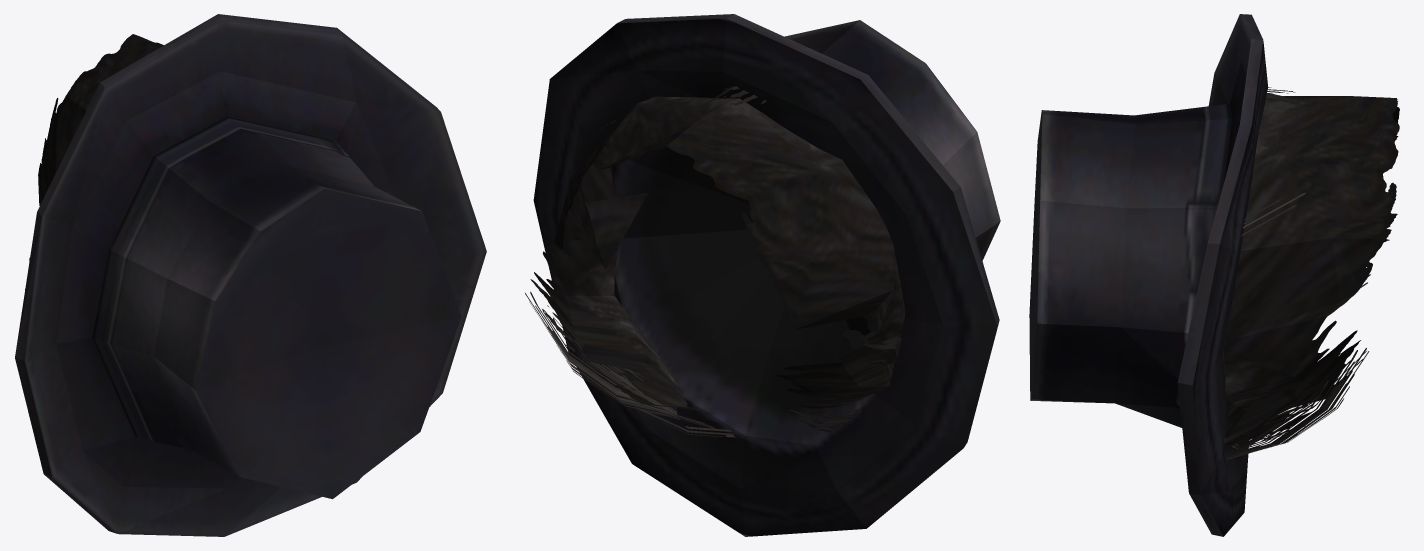
File: common_hair_male_3019.obj
3 renders of one model, left to right at view 1: azimuth 30°, elevation 25°; view 2: azimuth 150°, elevation 25°; view 3: azimuth 270°, elevation 25°, orthographic. The views are drawn at different scales.
Visible parts, largest first — view 1: common_hair_male_3019; view 2: common_hair_male_3019; view 3: common_hair_male_3019.
Boxes of the visible parts, x1,y1,x2,y2 form: common_hair_male_3019: [15, 14, 486, 536]; common_hair_male_3019: [525, 14, 1000, 536]; common_hair_male_3019: [1029, 14, 1399, 536].
Bounding box in the file's own units: 13.51 × 14.35 × 10.37.
Materials: 2 (2 with a texture image).
